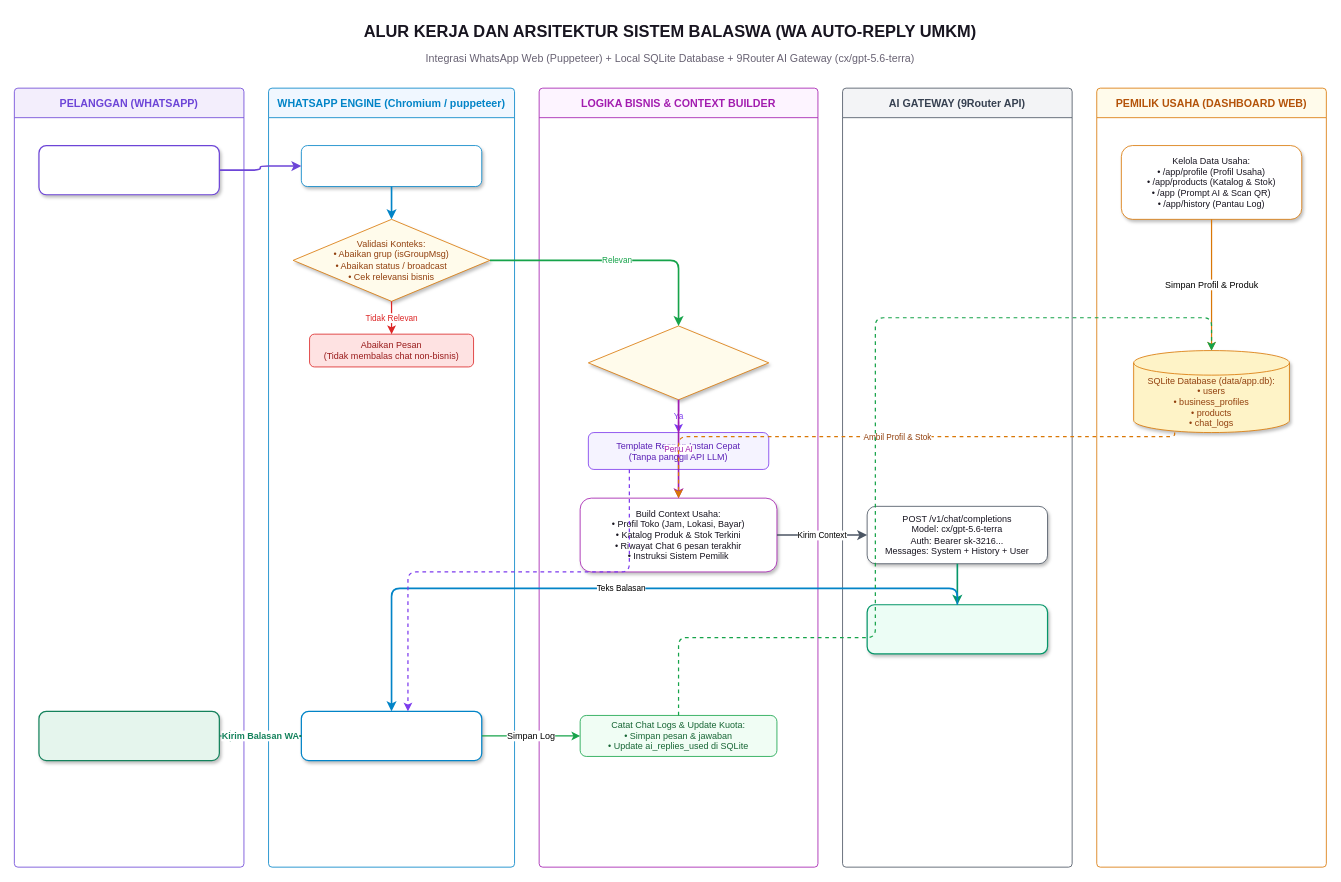
This 1341x882 diagram has some shape labels left out. The centre of each missing label's shape, as x and y in pixels:
Cek Balasan Instan: Pola salam/order langsung?: the point at 679,363
client.sendMessage / msg.reply() Kirim teks balasan ke nomor pengirim: the point at 392,737
Event message_create Tangkap msg.from & msg.body: the point at 392,166
Pelanggan kirim chat WhatsApp (Tanya produk / jam buka / stok / lokasi): the point at 130,171
Pelanggan menerima balasan WhatsApp (Format natural, ramah, kontekstual): the point at 130,737
Respon AI Dihasilkan: Jawaban ramah, ringkas, faktual sesuai stok & harga nyata: the point at 958,630
